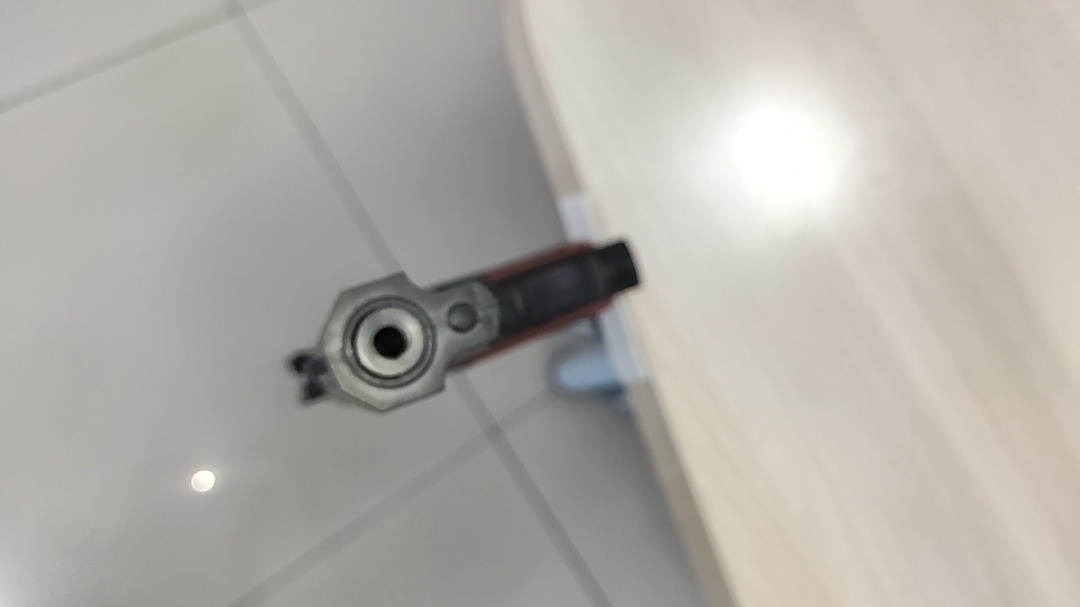gun: (349, 267, 399, 297)
